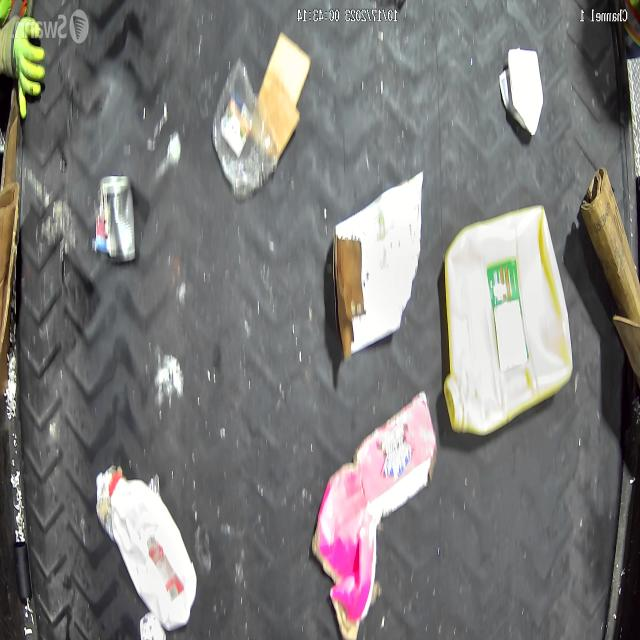can: (95, 174, 135, 262)
non_white_jug: (443, 205, 572, 435), (108, 471, 196, 631)
